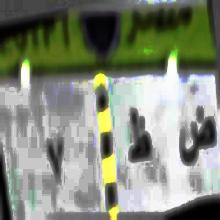7: (45, 129, 67, 183)
Thaa: (130, 105, 154, 169)
daad: (178, 102, 215, 176)
